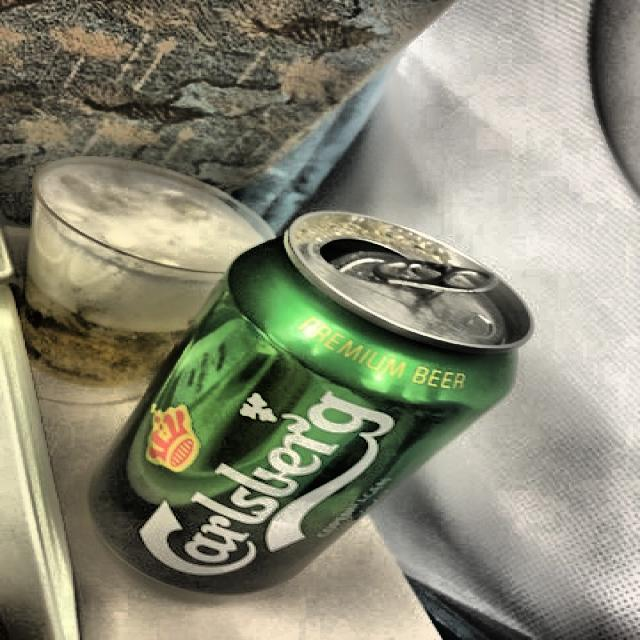Cans: (72, 193, 542, 616)
